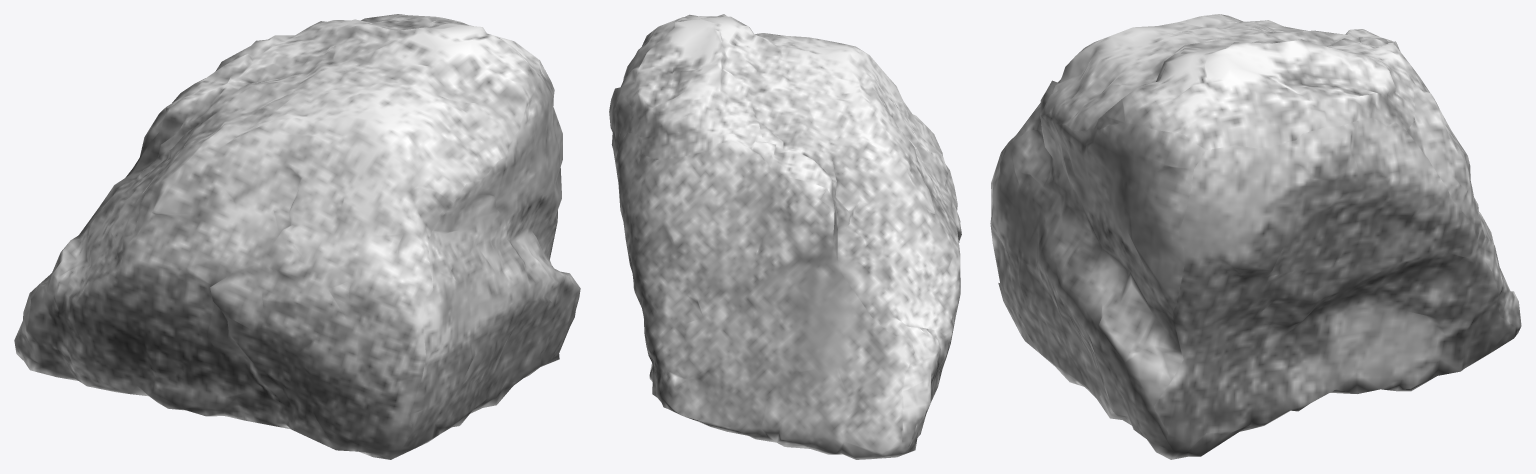
Rendered from boulder-fieldstone-dome-lod1.glb.
3 renders of one model, left to right at view 1: azimuth 30°, elevation 25°; view 2: azimuth 150°, elevation 25°; view 3: azimuth 270°, elevation 25°, orthographic. The views are drawn at different scales.
Parts seen in each view (by area): view 1: boulder_04; view 2: boulder_04; view 3: boulder_04.
Part boxes in pixels (x1=…): boulder_04: x1=14, y1=14, x2=580, y2=459; boulder_04: x1=609, y1=14, x2=961, y2=459; boulder_04: x1=990, y1=14, x2=1521, y2=459.
Bounding box in the file's own units: 2.52 × 1.9 × 2.48.
Materials: 1 (1 with a texture image).
